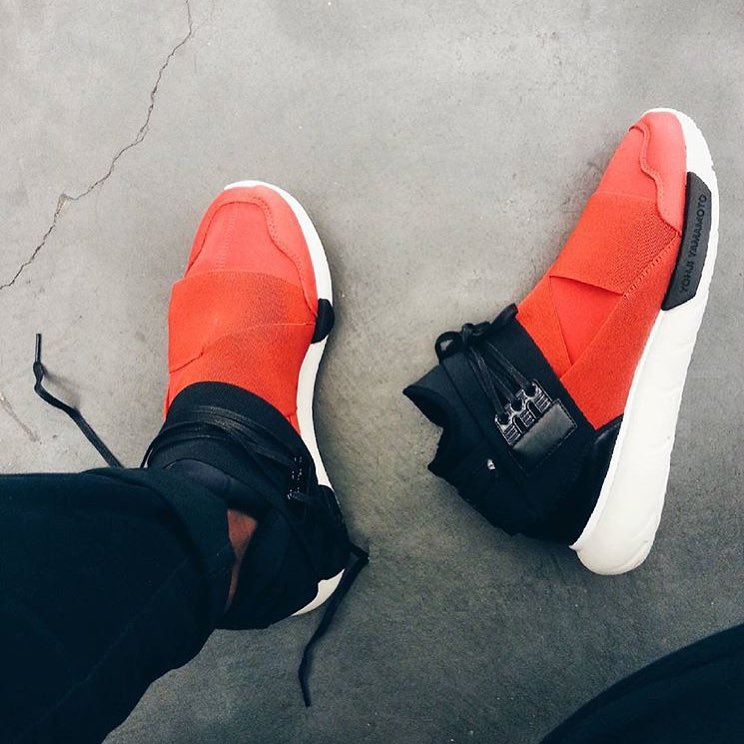sneaker: (129, 153, 374, 640)
